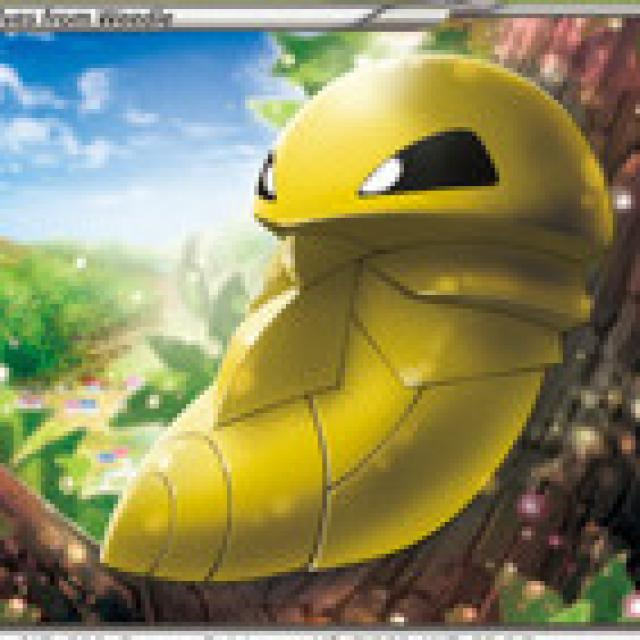Kakuna: (99, 53, 621, 567)
